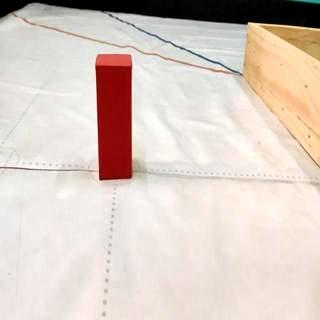redbox: (96, 54, 132, 180)
